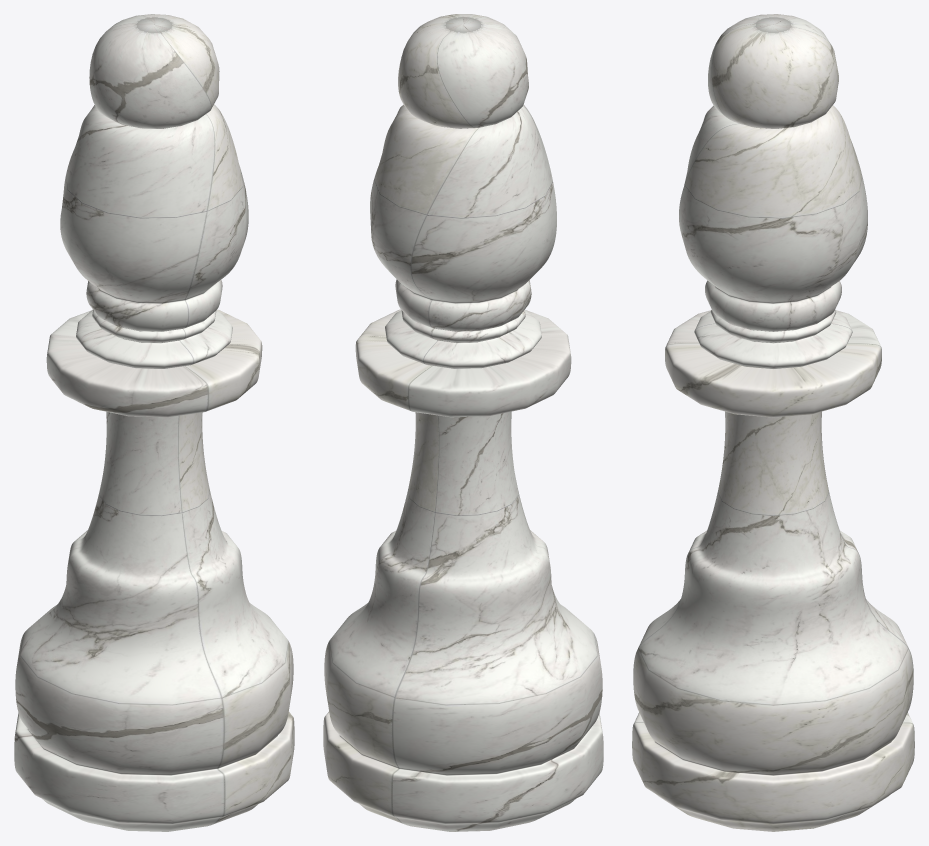
Rendered from ChessBauerV1.fbx.
3 views of the same model, side by side, from view 1: azimuth 30°, elevation 25°; view 2: azimuth 150°, elevation 25°; view 3: azimuth 270°, elevation 25° (orthographic).
Visible parts, largest first — view 1: NurbsPath.001; view 2: NurbsPath.001; view 3: NurbsPath.001.
Part boxes in pixels (<box>): NurbsPath.001: <box>14,14,294,831</box>; NurbsPath.001: <box>323,14,603,831</box>; NurbsPath.001: <box>632,14,914,831</box>.
Bounding box in the file's own units: 82.27 × 249 × 82.27.
Materials: 1 (1 with a texture image).
